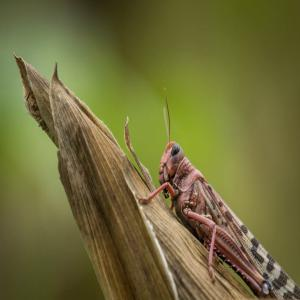locust: (147, 132, 300, 300)
